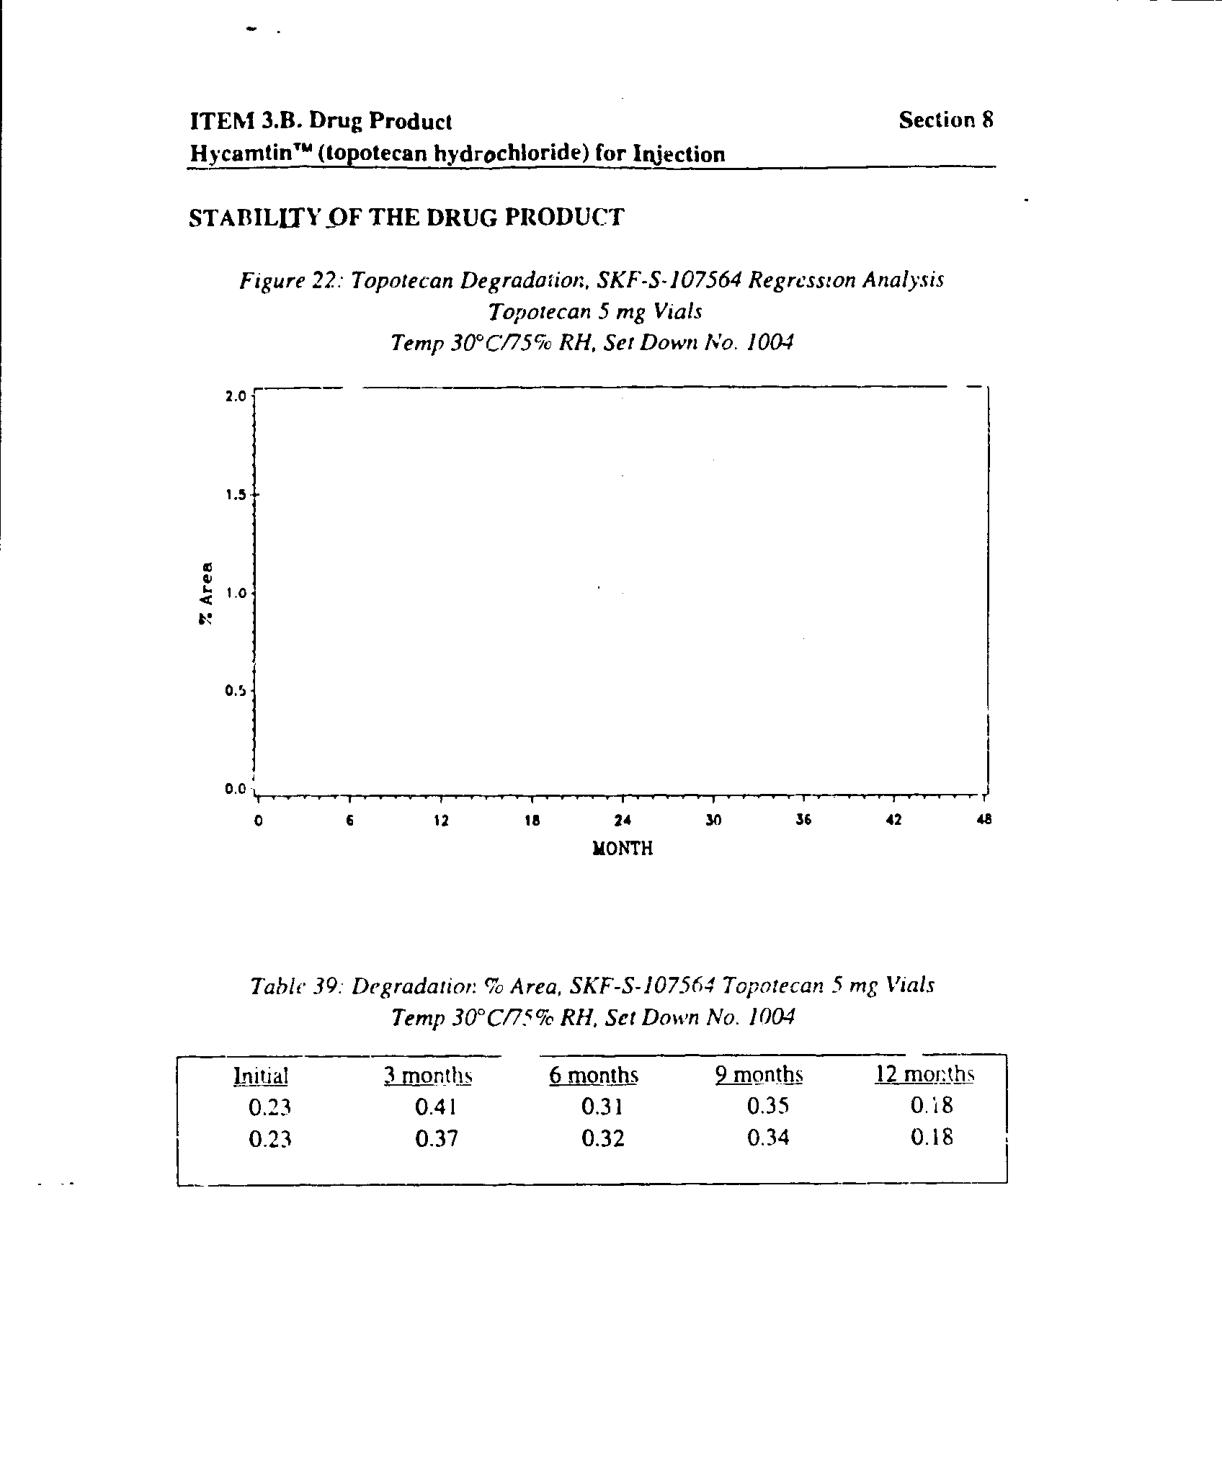partial_lined: (173, 1052, 1011, 1188)
